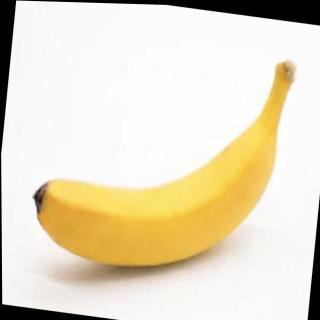banana: (22, 88, 284, 286)
